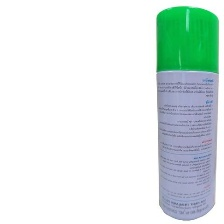aerosol_cans: (151, 1, 224, 222)
